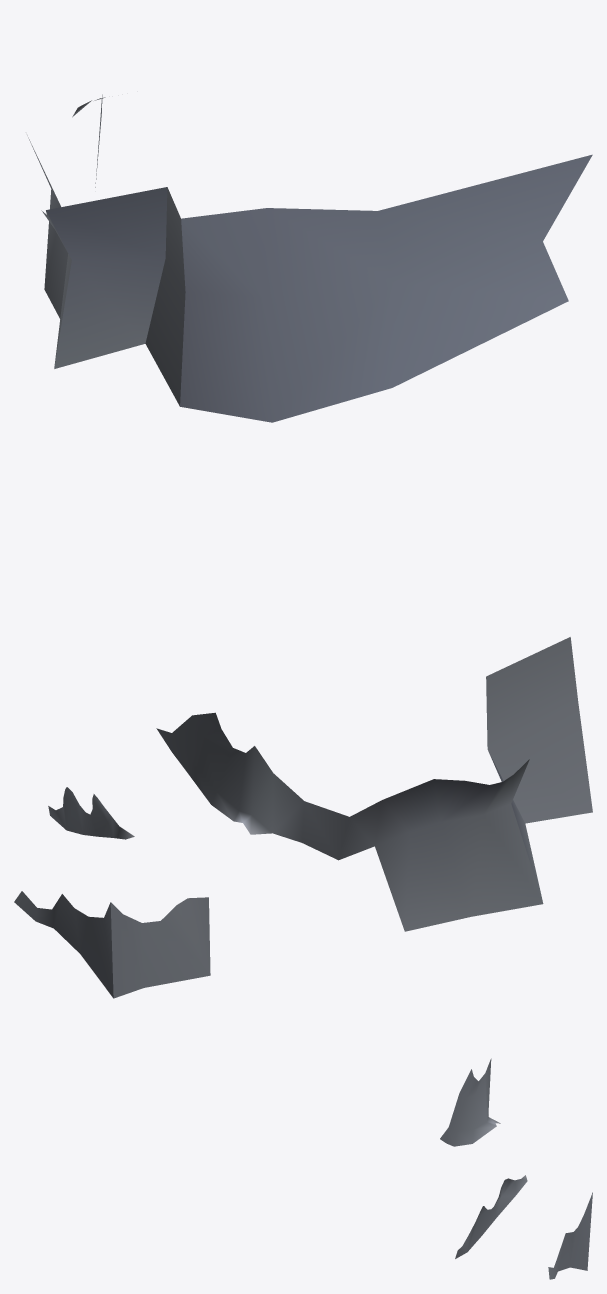
File: MtBlizzardSummitSection1Rock100.glb
3 renders of one model, top to bottom at view 1: azimuth 30°, elevation 25°; view 2: azimuth 150°, elevation 25°; view 3: azimuth 270°, elevation 25°, orthographic. The views are drawn at different scales.
Visible parts, largest first — view 1: MtBlizzardSummitSection1Rock100; view 2: MtBlizzardSummitSection1Rock100; view 3: MtBlizzardSummitSection1Rock100.
Boxes of the visible parts, x1=… form: MtBlizzardSummitSection1Rock100: x1=27, y1=94, x2=592, y2=422; MtBlizzardSummitSection1Rock100: x1=14, y1=637, x2=592, y2=998; MtBlizzardSummitSection1Rock100: x1=440, y1=1058, x2=592, y2=1279.
Size of the model in its own units: 12.43 by 7.85 by 20.17.
